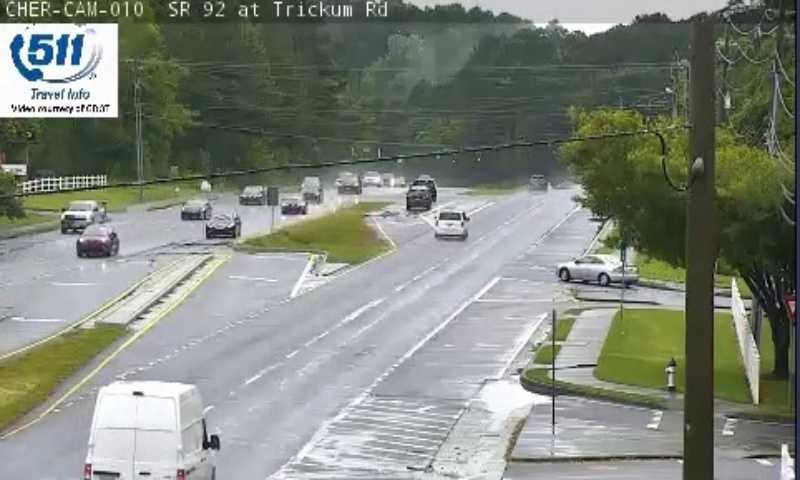car: (434, 211, 468, 240)
van: (86, 379, 213, 480)
